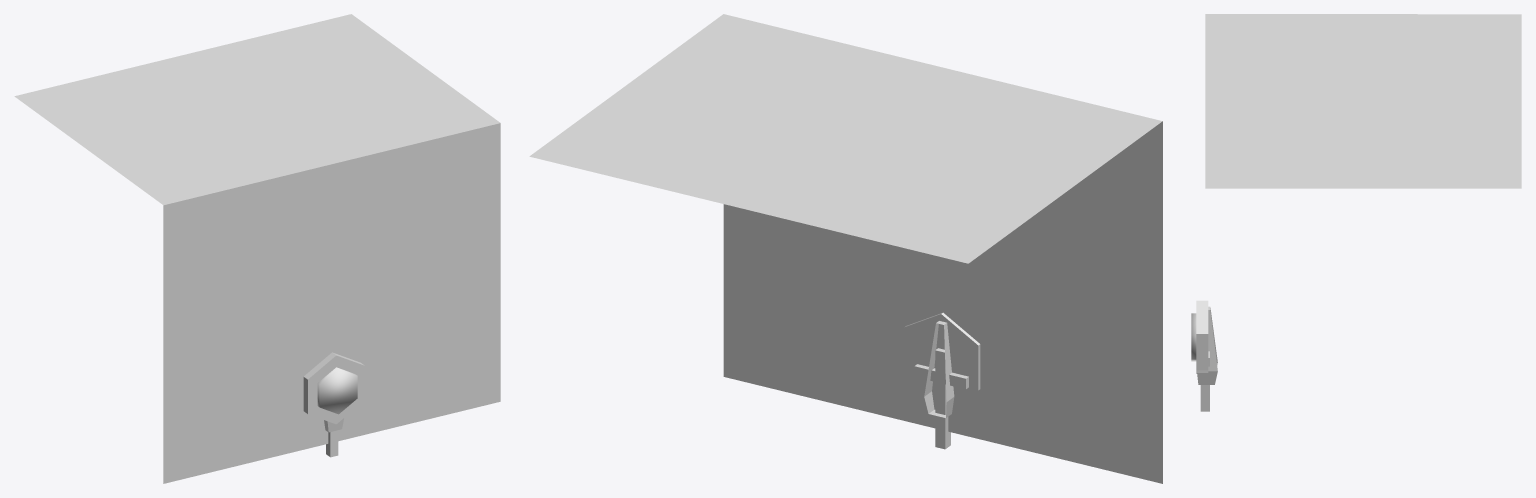
Rendered from necklacePresets.glb.
3 views of the same model, side by side, from view 1: azimuth 30°, elevation 25°; view 2: azimuth 150°, elevation 25°; view 3: azimuth 270°, elevation 25° (orthographic). The views are drawn at different scales.
Parts seen in each view (by area): view 1: Plane, Plane.002, Plane.003, Cube.001, Cube.002; view 2: Plane, Plane.002, Plane.003, Cube.003, Plane.001; view 3: Plane, Cube.001, Plane.001.
Boxes of the visible parts, <box> form: Plane: <box>14,14,500,404</box>; Plane.002: <box>163,123,500,483</box>; Plane.003: <box>163,124,499,349</box>; Cube.001: <box>303,352,364,424</box>; Cube.002: <box>317,367,357,414</box>; Plane: <box>529,14,1162,381</box>; Plane.002: <box>723,122,1162,483</box>; Plane.003: <box>970,122,1162,308</box>; Cube.003: <box>914,348,968,449</box>; Plane.001: <box>924,321,954,417</box>; Plane: <box>1205,14,1521,188</box>; Cube.001: <box>1196,300,1208,373</box>; Plane.001: <box>1197,306,1217,384</box>.
Bounding box in the file's own units: 0.305 × 0.2511 × 0.2441.
Materials: 2 (1 with a texture image).
